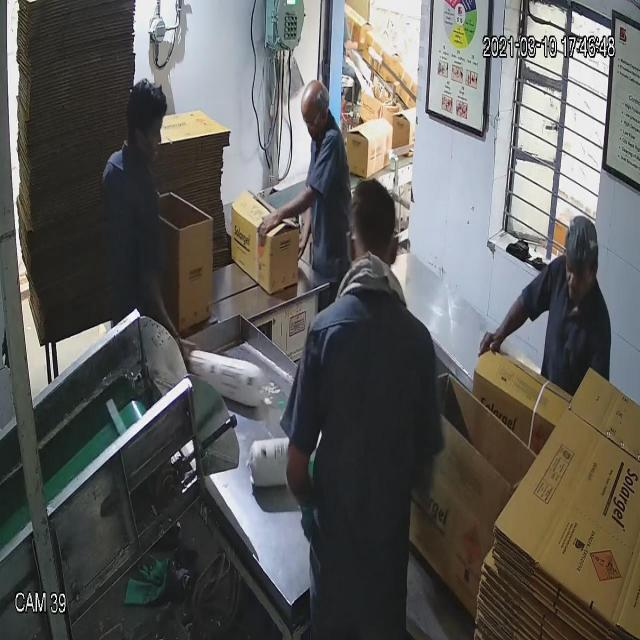No_Gloves: (56, 86, 506, 326)
